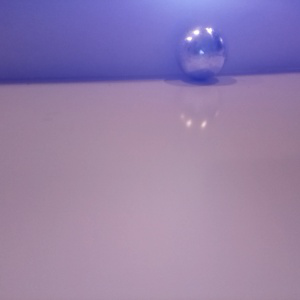alive_ball: (176, 25, 226, 80)
